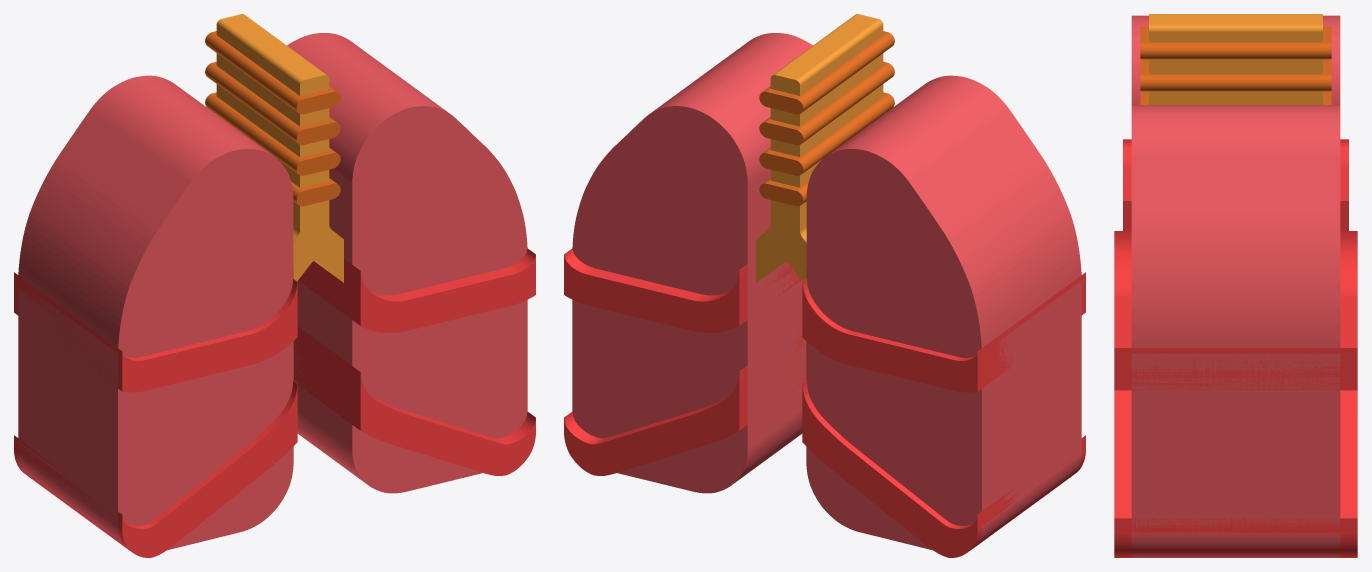
Rendered from U+1FAC1.obj.
The picture shows the model from 3 angles, left to right: view 1: azimuth 30°, elevation 25°; view 2: azimuth 150°, elevation 25°; view 3: azimuth 270°, elevation 25°; orthographic projection. The views are drawn at different scales.
Parts seen in each view (by area): view 1: U+1FAC1_layer02_obj00, U+1FAC1_layer04_obj00, U+1FAC1_layer03_obj00, U+1FAC1_layer00_obj00, U+1FAC1_layer01_obj00; view 2: U+1FAC1_layer02_obj00, U+1FAC1_layer03_obj00, U+1FAC1_layer04_obj00, U+1FAC1_layer00_obj00, U+1FAC1_layer01_obj00; view 3: U+1FAC1_layer02_obj00, U+1FAC1_layer04_obj00, U+1FAC1_layer00_obj00, U+1FAC1_layer01_obj00, U+1FAC1_layer03_obj00.
Part boxes in pixels (left/top/right/bottom): U+1FAC1_layer02_obj00: left=18, top=33, right=527, bottom=550; U+1FAC1_layer04_obj00: left=293, top=248, right=535, bottom=475; U+1FAC1_layer03_obj00: left=14, top=272, right=297, bottom=557; U+1FAC1_layer00_obj00: left=216, top=14, right=343, bottom=282; U+1FAC1_layer01_obj00: left=205, top=31, right=340, bottom=206; U+1FAC1_layer02_obj00: left=572, top=33, right=1081, bottom=550; U+1FAC1_layer03_obj00: left=802, top=272, right=1085, bottom=557; U+1FAC1_layer04_obj00: left=564, top=248, right=806, bottom=475; U+1FAC1_layer00_obj00: left=756, top=14, right=883, bottom=282; U+1FAC1_layer01_obj00: left=759, top=31, right=894, bottom=206; U+1FAC1_layer02_obj00: left=1131, top=15, right=1340, bottom=557; U+1FAC1_layer04_obj00: left=1114, top=231, right=1357, bottom=557; U+1FAC1_layer00_obj00: left=1149, top=14, right=1322, bottom=104; U+1FAC1_layer01_obj00: left=1140, top=27, right=1331, bottom=104; U+1FAC1_layer03_obj00: left=1123, top=139, right=1348, bottom=230.
Size of the model in its own units: 0.5678 by 0.568 by 0.28.
